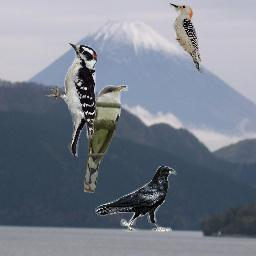Crow: (95, 166, 177, 232)
Cuckoo: (84, 85, 128, 193)
Woodpecker: (44, 41, 98, 157), (169, 0, 204, 75)
